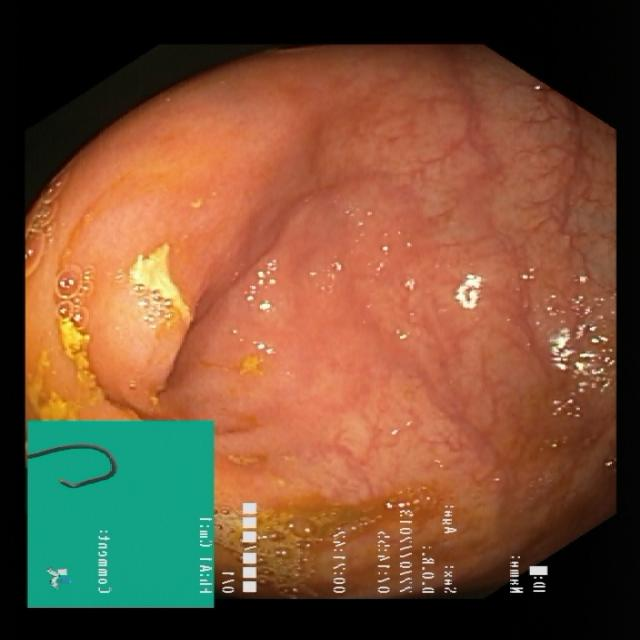normal-cecum: (214, 358, 616, 596), (23, 158, 281, 430)
